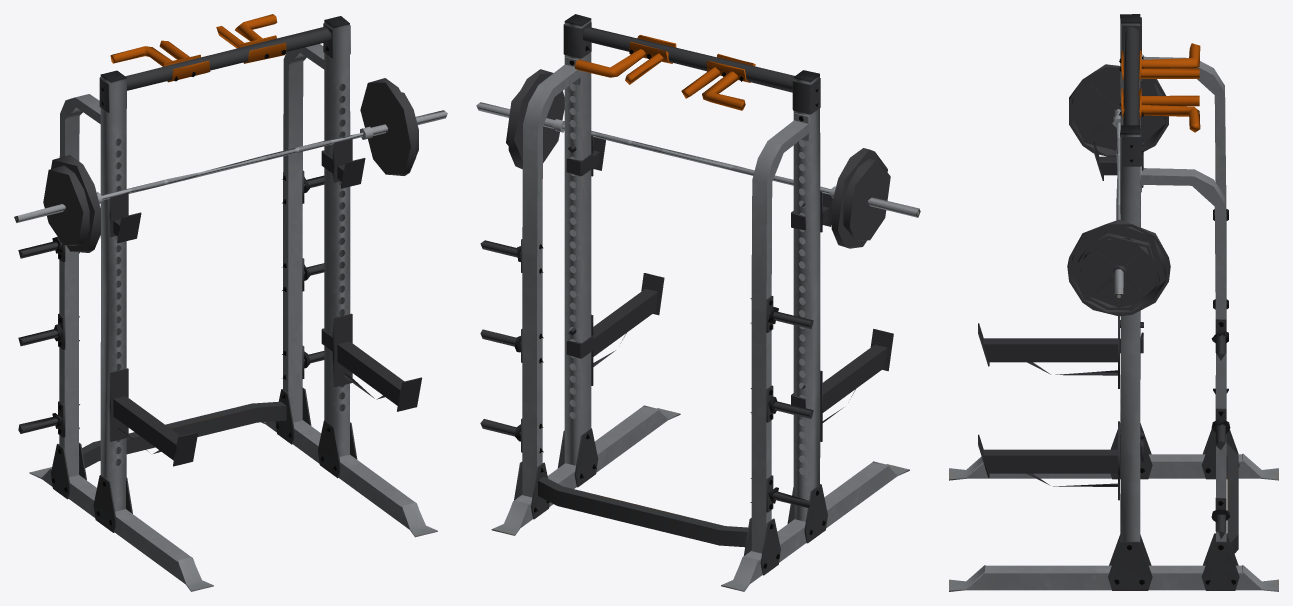
Rendered from power-rack.low.glb.
3 views of the same model, side by side, from view 1: azimuth 30°, elevation 25°; view 2: azimuth 150°, elevation 25°; view 3: azimuth 270°, elevation 25° (orthographic). The views are drawn at different scales.
Visible parts, largest first — view 1: defaultMaterial (×4); view 2: defaultMaterial (×4); view 3: defaultMaterial (×4).
Boxes of the visible parts, left/top/right/bottom form: defaultMaterial (×4): left=14, top=14, right=447, bottom=591; defaultMaterial (×4): left=476, top=14, right=920, bottom=591; defaultMaterial (×4): left=949, top=14, right=1278, bottom=591.
Bounding box in the file's own units: 2.2 × 2.19 × 1.44.
Materials: 4 (2 with a texture image).
